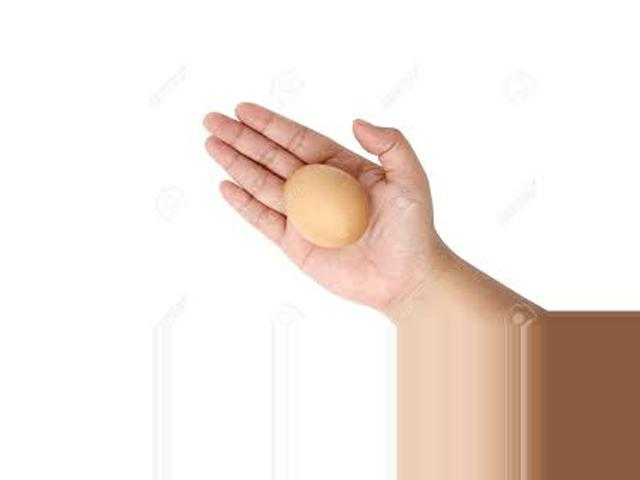egg: (285, 165, 371, 247)
